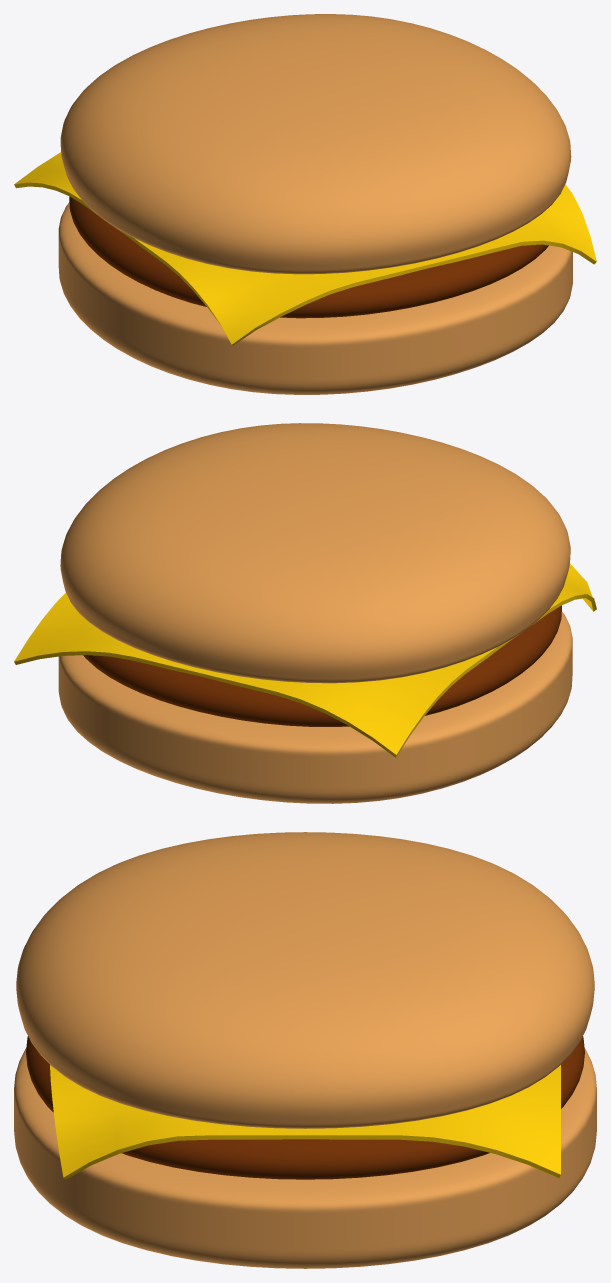
The model's file is hamburger.glb.
3 views of the same model, one above another, from view 1: azimuth 30°, elevation 25°; view 2: azimuth 150°, elevation 25°; view 3: azimuth 270°, elevation 25° (orthographic). The views are drawn at different scales.
Parts seen in each view (by area): view 1: Cube.002, Cube.001, Plane, Cube; view 2: Cube.002, Cube.001, Plane, Cube; view 3: Cube.002, Cube.001, Plane, Cube.
Part boxes in pixels (box(x1,y1,x2,y2)): Cube.002: box(60, 14, 571, 274); Cube.001: box(58, 202, 572, 394); Plane: box(14, 152, 596, 345); Cube: box(69, 196, 548, 318); Cube.002: box(60, 423, 570, 683); Cube.001: box(58, 612, 572, 803); Plane: box(14, 563, 596, 757); Cube: box(83, 605, 561, 726); Cube.002: box(16, 832, 594, 1128); Cube.001: box(14, 1048, 596, 1268); Plane: box(50, 1065, 560, 1179); Cube: box(26, 1036, 584, 1179).
Bounding box in the file's own units: 9.17 × 4.69 × 9.17.
